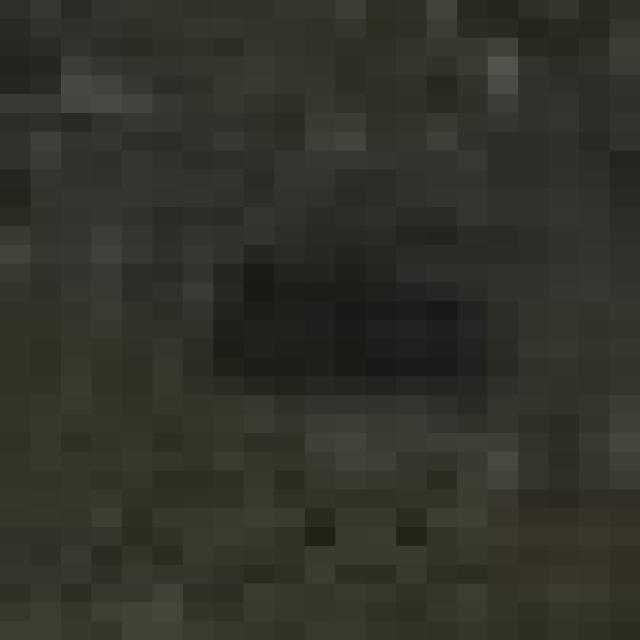.: (174, 220, 530, 428)
